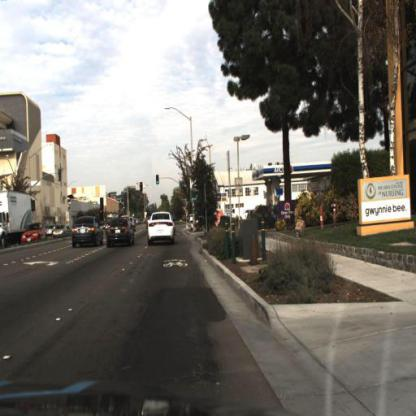car: (72, 213, 104, 252), (106, 214, 140, 250), (148, 210, 177, 249), (21, 223, 43, 245), (228, 202, 245, 226), (53, 225, 68, 242)
trafficLight-Green: (154, 173, 162, 189)
trafficLight-Red: (138, 178, 145, 196), (127, 186, 133, 200)
